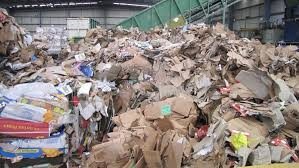paper: (228, 97, 292, 131), (139, 130, 188, 168), (88, 130, 135, 164), (230, 70, 281, 101), (233, 141, 275, 168), (224, 46, 263, 74), (107, 105, 146, 131), (140, 96, 175, 122), (221, 129, 251, 158), (165, 58, 194, 87), (170, 91, 196, 120), (70, 80, 99, 99), (191, 70, 215, 92), (74, 101, 97, 120)
plastic: (1, 102, 60, 137), (1, 135, 69, 158)
